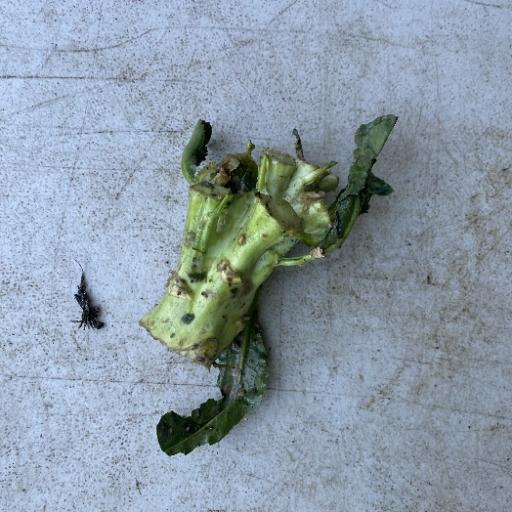Waste: (136, 110, 400, 456)
